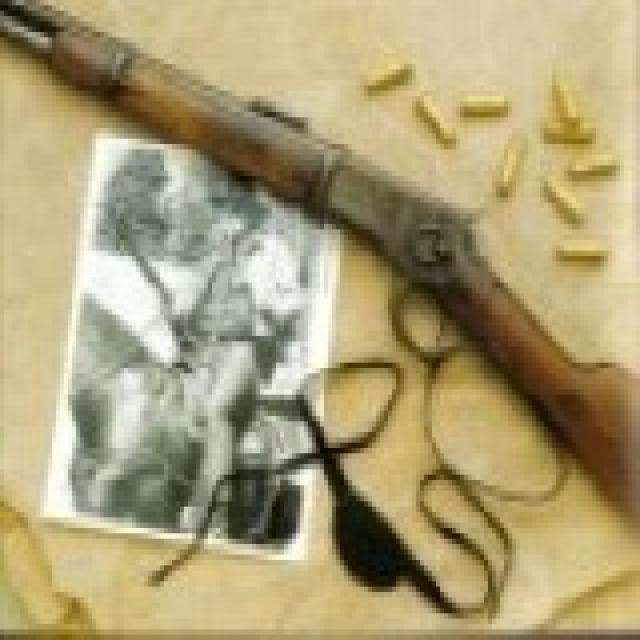Gun: (28, 0, 640, 549)
